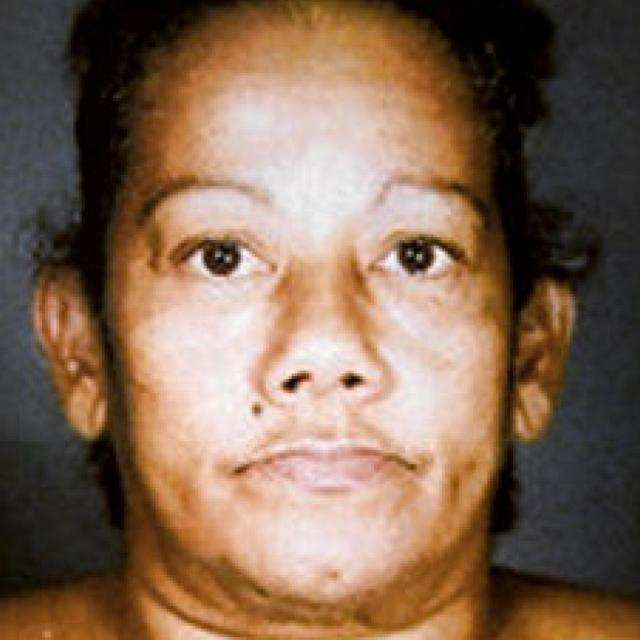Depress: (93, 12, 508, 614)
